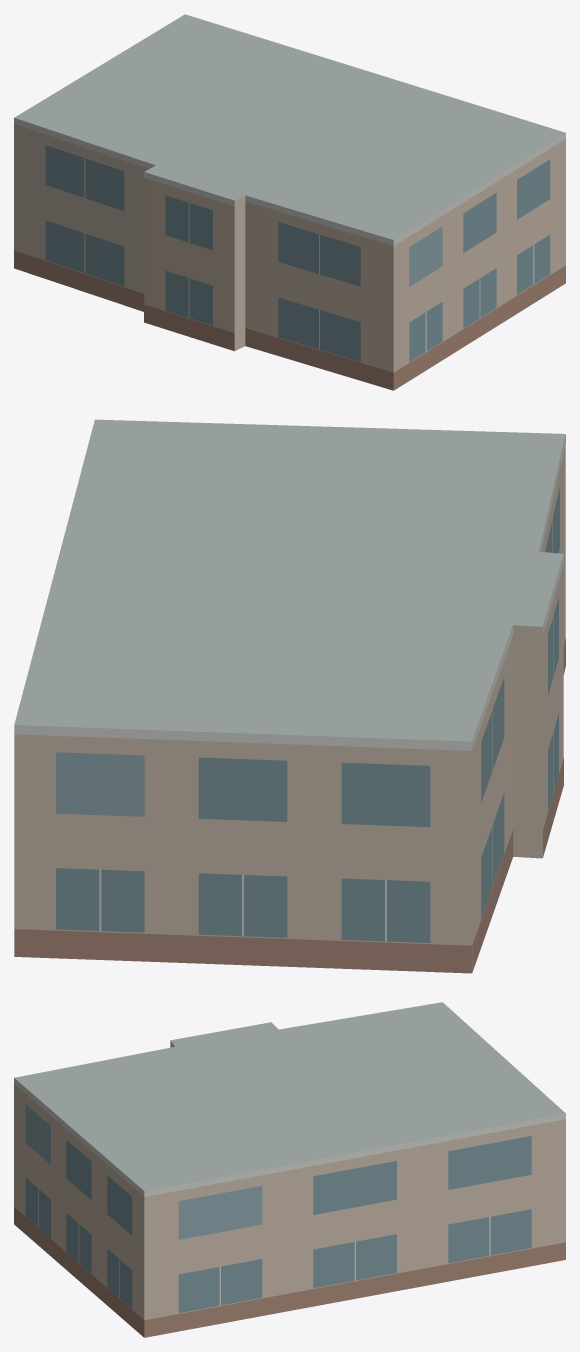
The model's file is survey-upis-32854644.glb.
3 renders of one model, top to bottom at view 1: azimuth 30°, elevation 25°; view 2: azimuth 150°, elevation 25°; view 3: azimuth 270°, elevation 25°, orthographic. The views are drawn at different scales.
Visible parts, largest first — view 1: survey-upis-32854644.tmp; view 2: survey-upis-32854644.tmp; view 3: survey-upis-32854644.tmp.
Part boxes in pixels (left/top/right/bottom): survey-upis-32854644.tmp: left=14, top=14, right=565, bottom=390; survey-upis-32854644.tmp: left=14, top=419, right=565, bottom=973; survey-upis-32854644.tmp: left=14, top=1002, right=565, bottom=1337.
Size of the model in its own units: 16.9 by 6.1 by 20.83.
